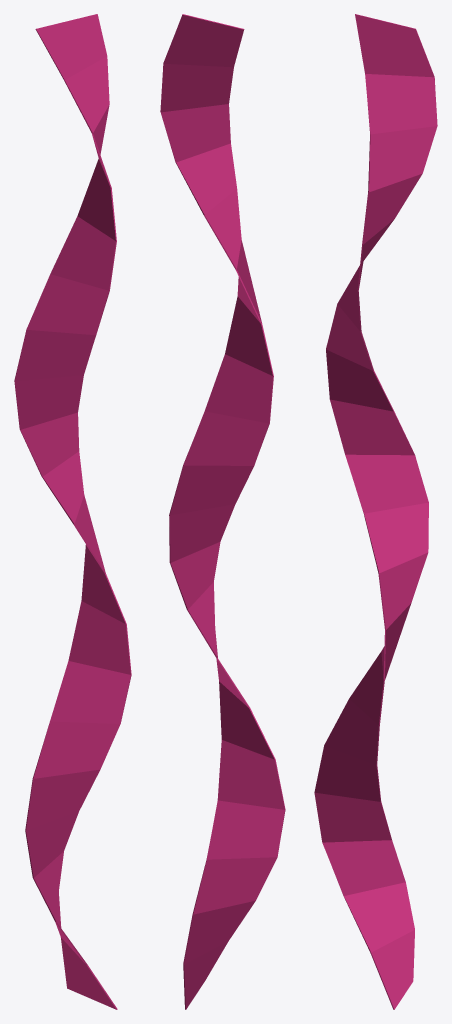
The model's file is party_streamer_pink.glb.
3 views of the same model, side by side, from view 1: azimuth 30°, elevation 25°; view 2: azimuth 150°, elevation 25°; view 3: azimuth 330°, elevation 25° (orthographic).
Parts seen in each view (by area): view 1: party_streamer_pink_body; view 2: party_streamer_pink_body; view 3: party_streamer_pink_body.
Part boxes in pixels (x1,y1,x2,y2): party_streamer_pink_body: (14,14,131,1009); party_streamer_pink_body: (160,14,285,1009); party_streamer_pink_body: (314,14,437,1009).
Size of the model in its own units: 0.0781 by 0.7001 by 0.07.
1 material, 1 textured.
